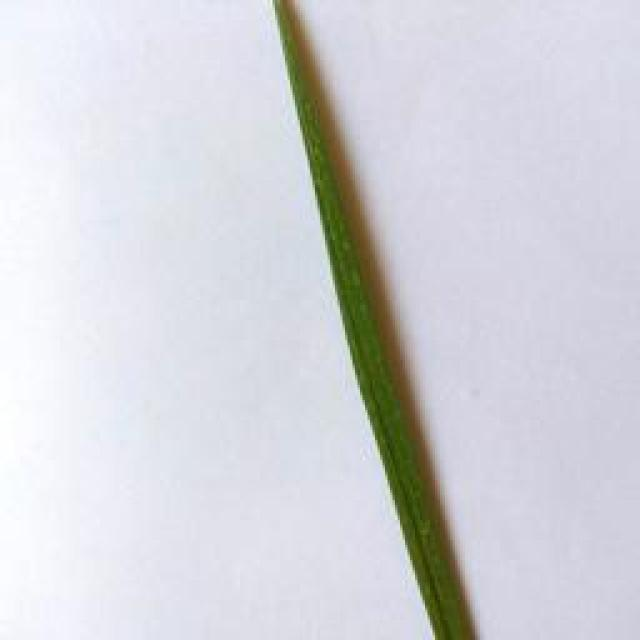Healthy-Plant: (267, 0, 469, 640)
